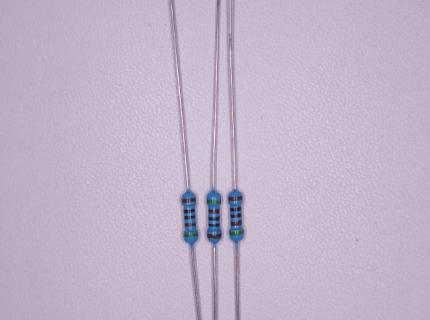Black band: (230, 206, 241, 212), (183, 209, 195, 214), (208, 216, 220, 221), (230, 213, 242, 218), (184, 215, 195, 220), (208, 223, 220, 227)
Brown band: (207, 233, 222, 239), (228, 196, 243, 201), (230, 220, 242, 226), (182, 198, 196, 203), (208, 209, 220, 213), (185, 223, 196, 227)
Green band: (229, 230, 244, 236), (183, 233, 198, 238), (206, 199, 221, 204)
